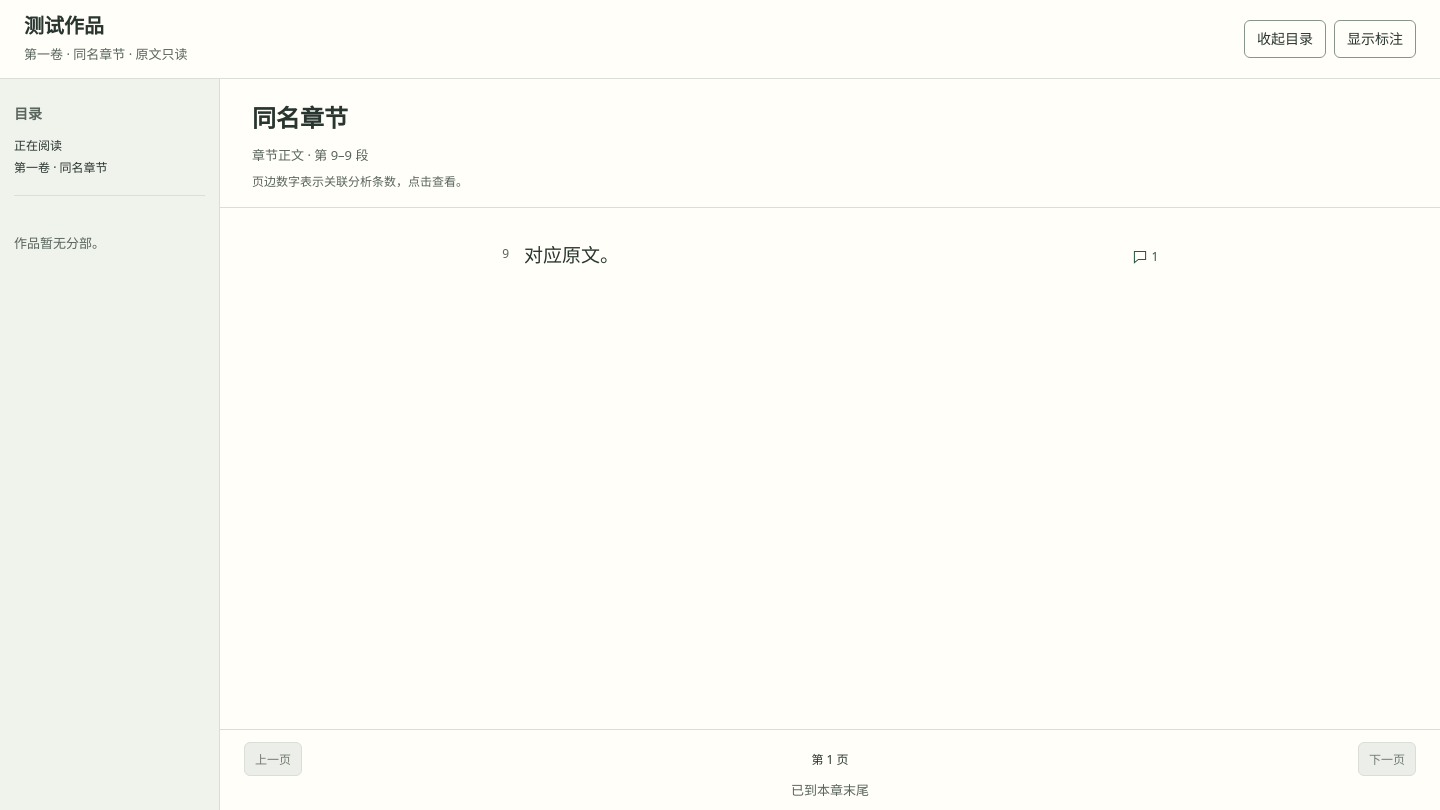
it: 正常阅读默认收起分析，点击单条标记打开详情且不重新定位正文
Expected: the text "对应原文。" is shown, [524,245,619,266]
Click the button named "第 9 段：1 条分析": {"x": 1145, "y": 257} [1126,242,1164,272]
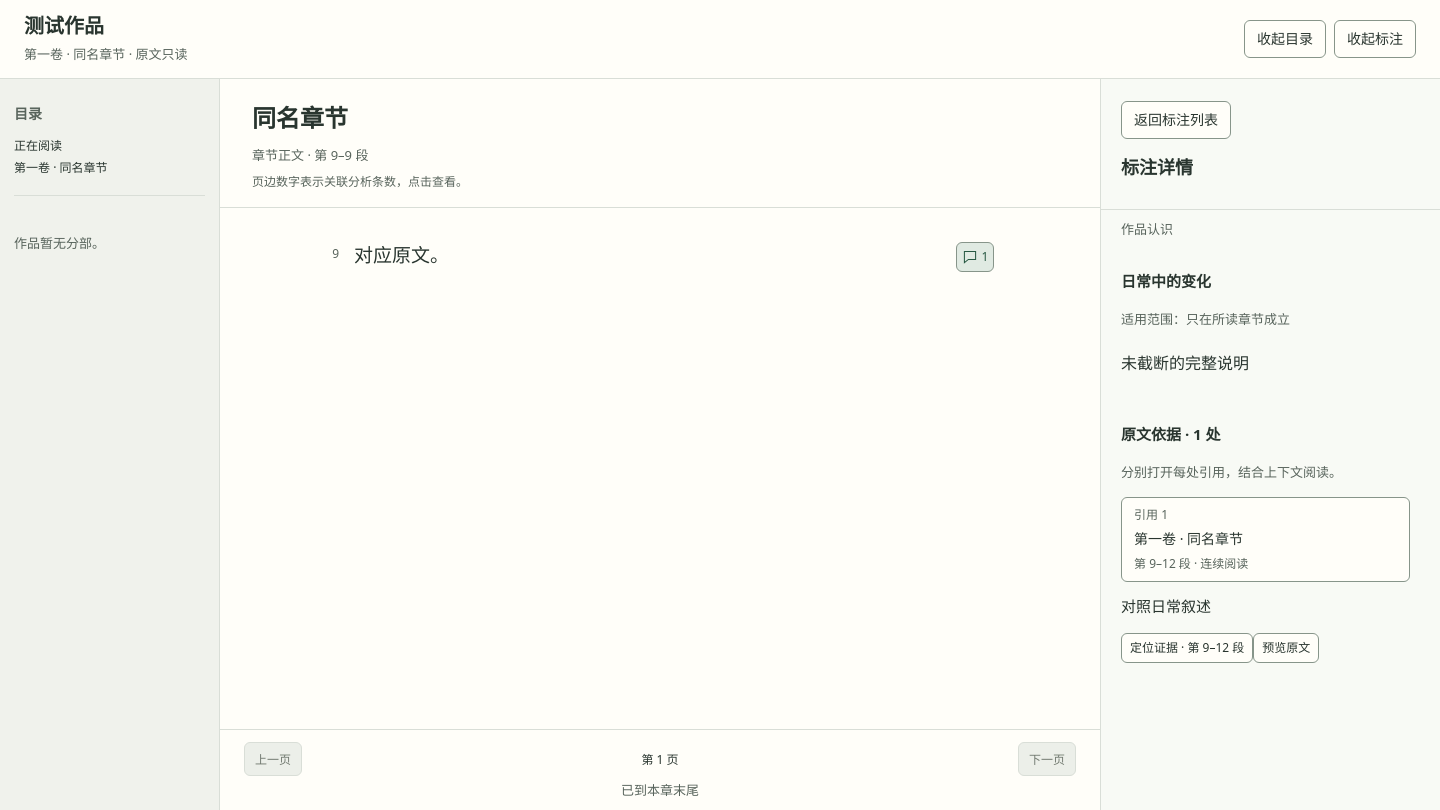
Result: the text "未截断的完整说明" is shown at [1121,352,1249,374]
Click the button "引用 1 第一卷 · 同名章节 第 9–12 段 · 连续阅读": {"x": 1155, "y": 539} [1121,497,1410,582]
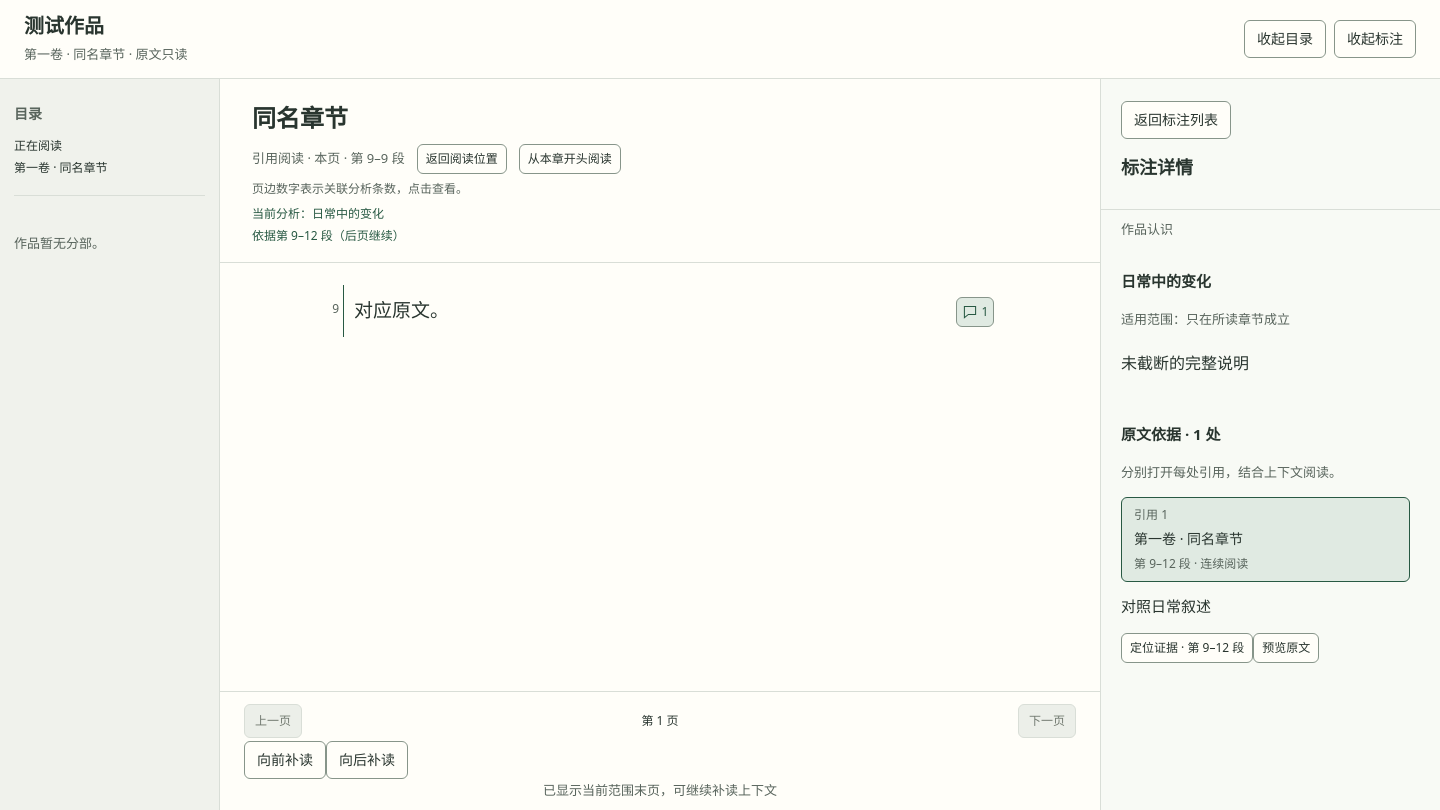
Click the button "收起标注": {"x": 1375, "y": 39} [1334,20,1416,58]
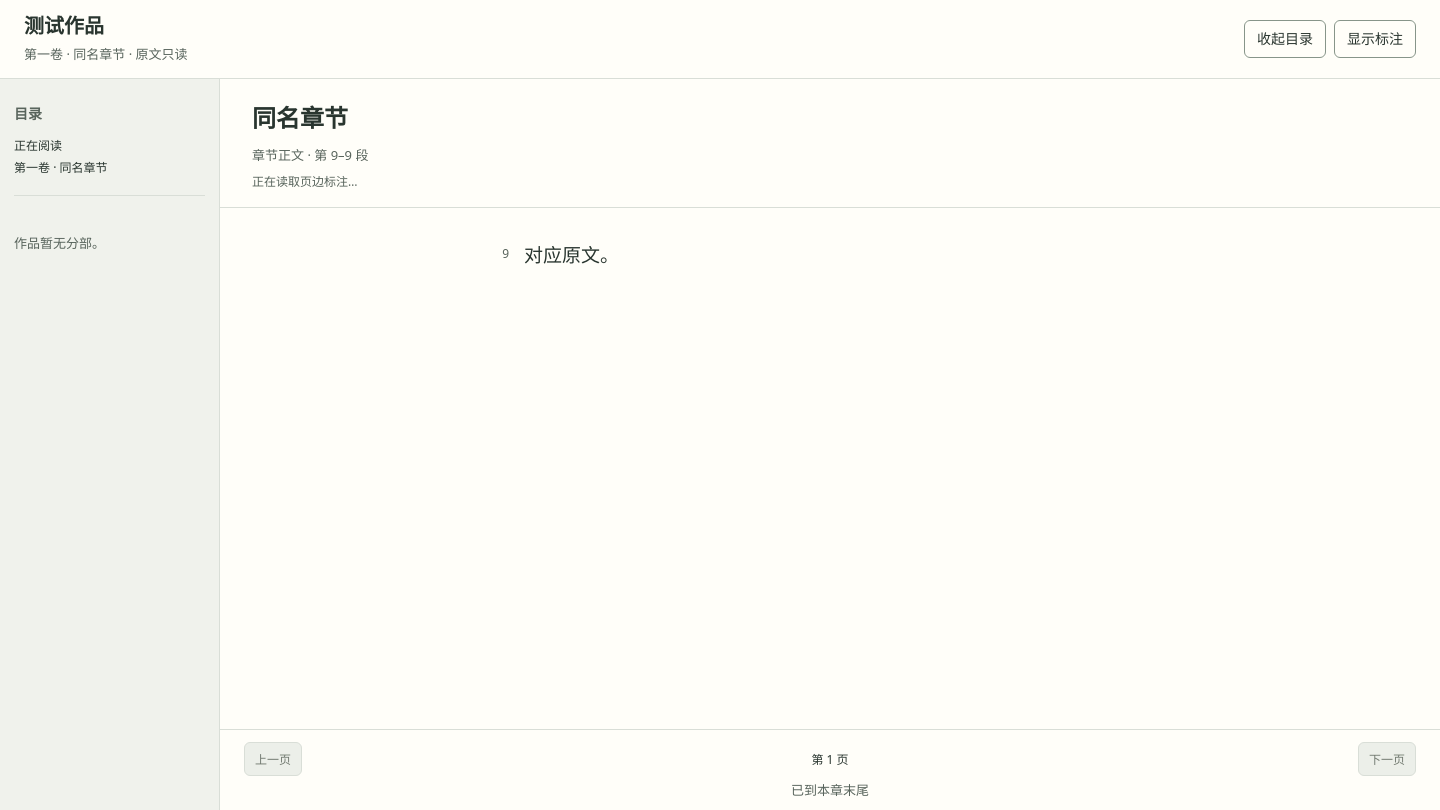
Expected: the text "对应原文。" is shown, [524,245,619,266]
Result: the element "原文标注" is gone
Click the button "收起目录": {"x": 1285, "y": 39} [1244,20,1326,58]
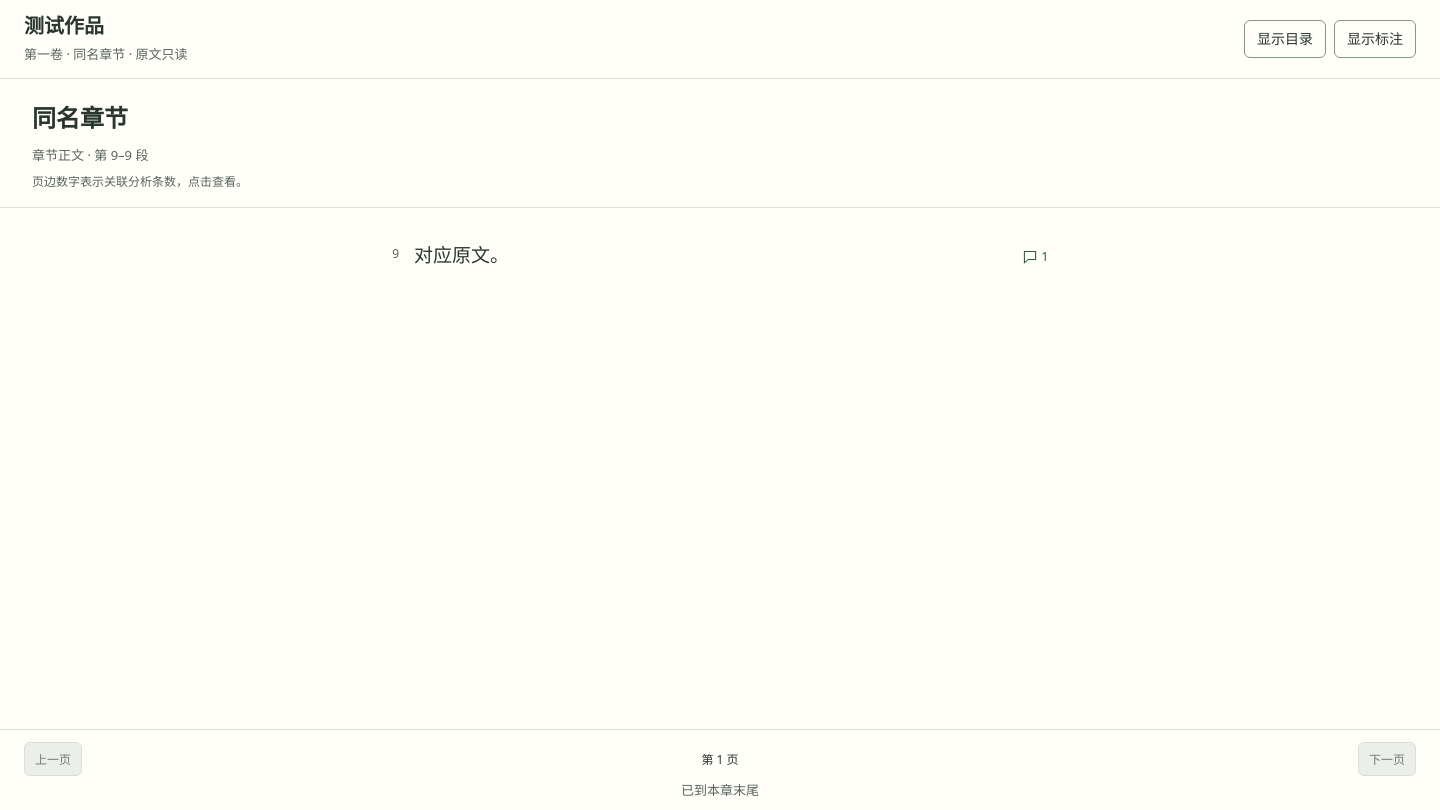
Result: the element "作品目录" is gone
